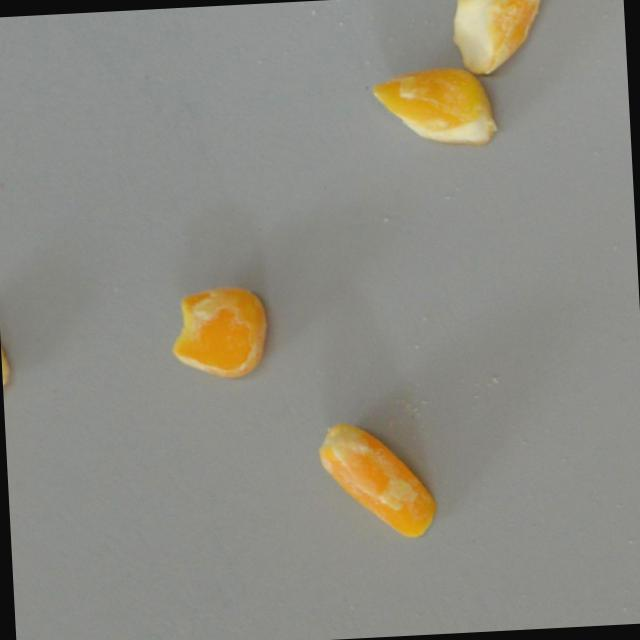dañado: (313, 414, 441, 544), (368, 60, 502, 154), (164, 282, 276, 383), (441, 0, 546, 79)
